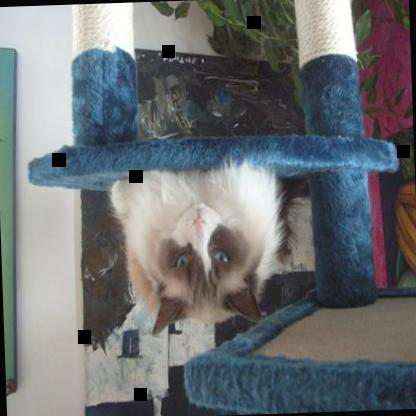cat: (110, 160, 286, 338)
